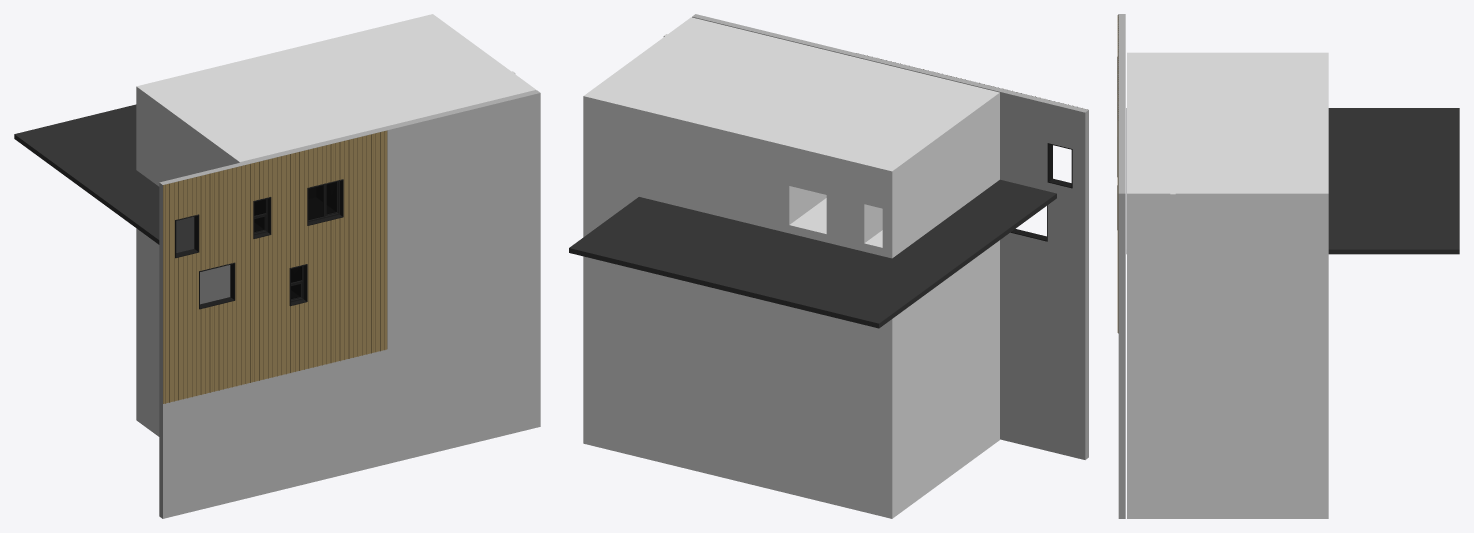
The model's file is MatrixIntercambiador.glb.
3 views of the same model, side by side, from view 1: azimuth 30°, elevation 25°; view 2: azimuth 150°, elevation 25°; view 3: azimuth 270°, elevation 25° (orthographic). The views are drawn at different scales.
Visible parts, largest first — view 1: Base, matriz3_k_v_2; view 2: Base; view 3: Base, matriz3_k_v_2.
Boxes of the visible parts, bbox=[...] form: Base: bbox=[14, 14, 540, 518]; matriz3_k_v_2: bbox=[163, 130, 387, 403]; Base: bbox=[569, 14, 1088, 518]; Base: bbox=[1117, 14, 1459, 518]; matriz3_k_v_2: bbox=[1117, 15, 1118, 332].
Bounding box in the file's own units: 12.69 × 10.67 × 10.18.
Materials: 5 (5 with a texture image).
